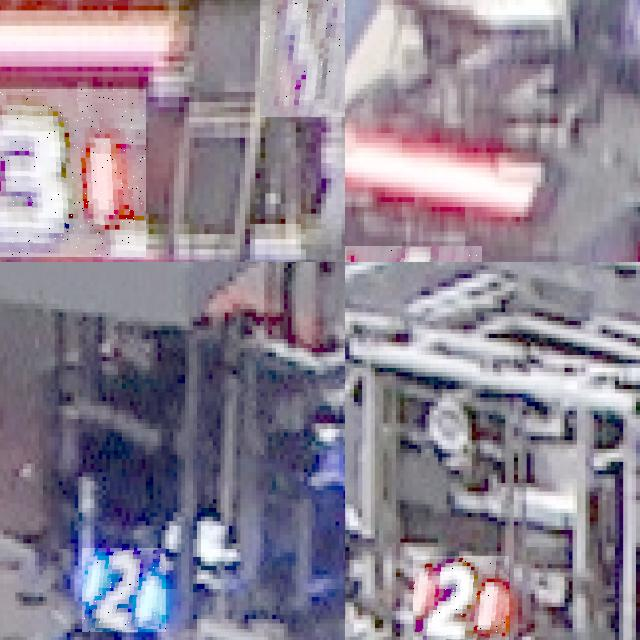B2: (82, 548, 166, 632)
R2: (412, 555, 509, 640)
R3: (0, 89, 145, 256), (260, 0, 345, 117)
